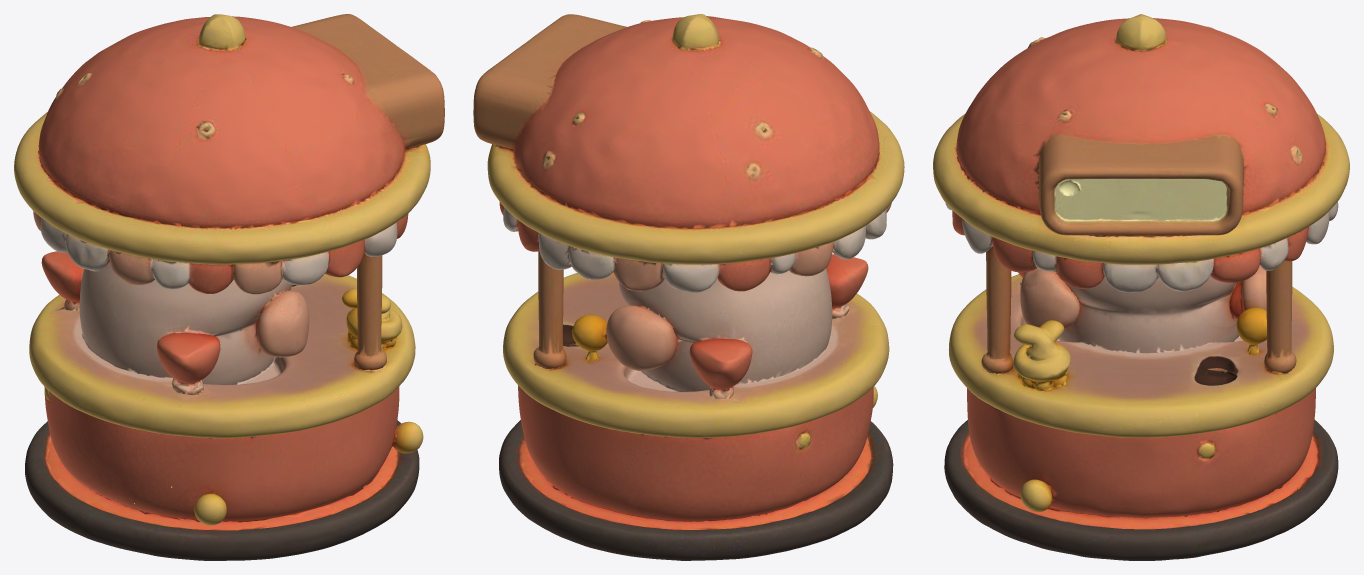
File: env_nest_cart_candy_01.glb
3 renders of one model, left to right at view 1: azimuth 30°, elevation 25°; view 2: azimuth 150°, elevation 25°; view 3: azimuth 270°, elevation 25°, orthographic.
Parts seen in each view (by area): view 1: tripo_node_751f2a58-1ace-4f58-a12b-a650ad64d276; view 2: tripo_node_751f2a58-1ace-4f58-a12b-a650ad64d276; view 3: tripo_node_751f2a58-1ace-4f58-a12b-a650ad64d276.
Part boxes in pixels (bbox=[...]): tripo_node_751f2a58-1ace-4f58-a12b-a650ad64d276: bbox=[14, 14, 444, 560]; tripo_node_751f2a58-1ace-4f58-a12b-a650ad64d276: bbox=[473, 14, 904, 560]; tripo_node_751f2a58-1ace-4f58-a12b-a650ad64d276: bbox=[933, 14, 1349, 560].
Size of the model in its own units: 1.45 by 1.8 by 1.46.
Materials: 1 (1 with a texture image).
